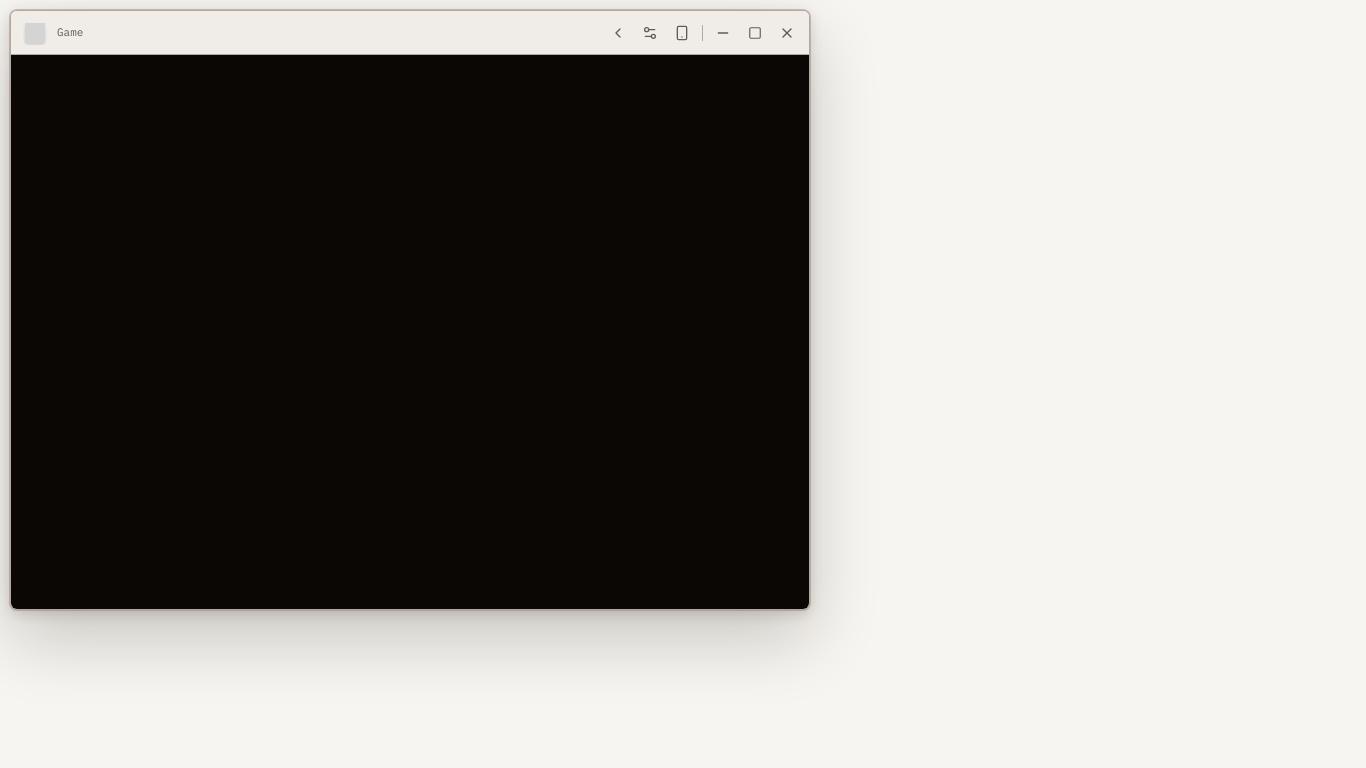
Test case: Hub: genel "Gerçek çözünürlük" kapalıyken Dinamik DP karosu › genel ayar açık › karo eskisi gibi çalışır: "Genele uy · Açık"
Click the button named "Pencere Hub ayarları" at (650, 32), box [634,16,666,48]
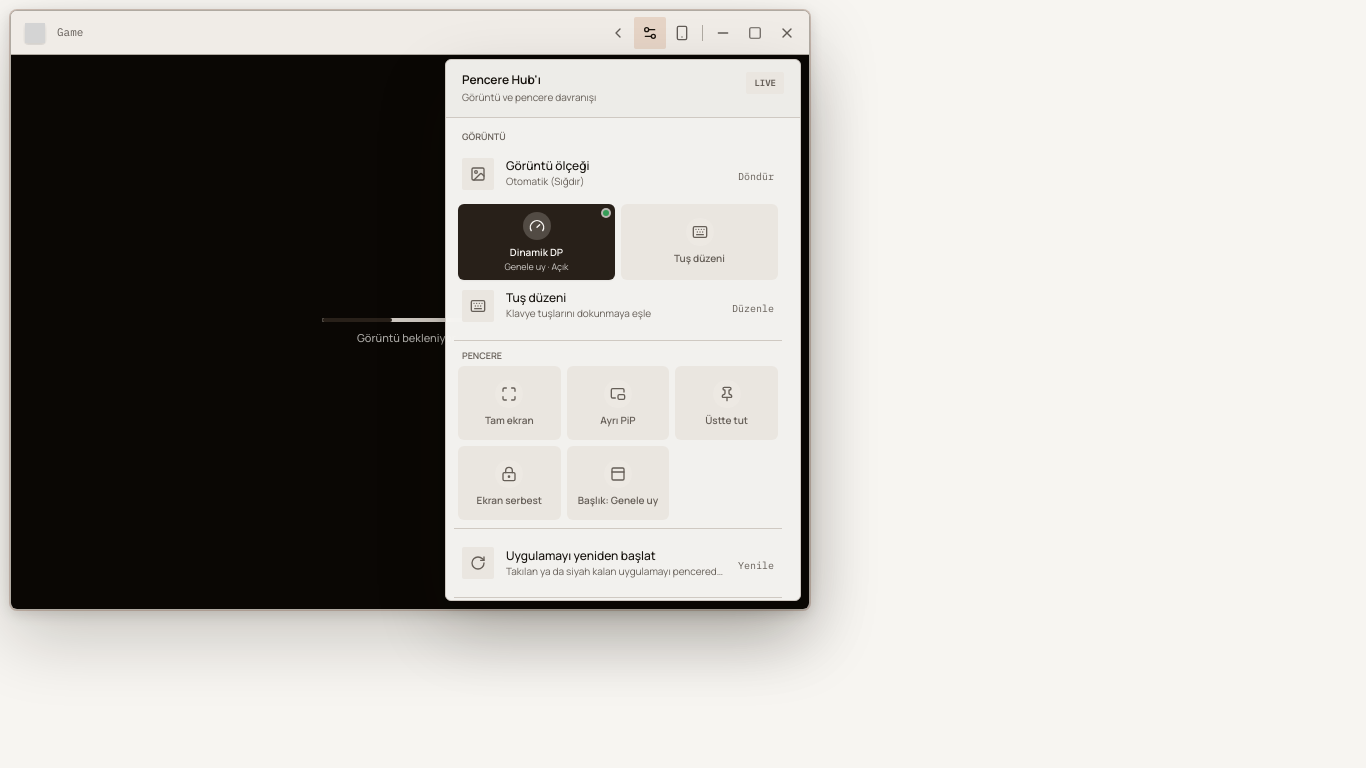
expect the button with aria-label "Dinamik DP: açık" shows "Genele uy · Açık": met, box [458,204,615,280]
